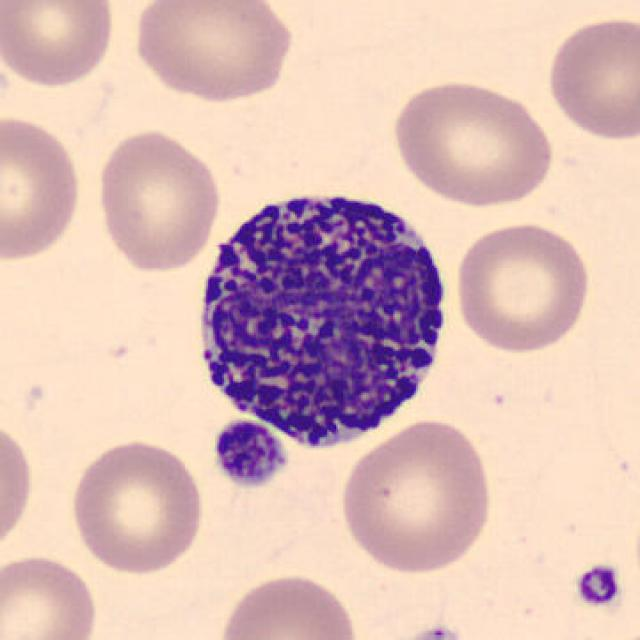Basophil: (182, 168, 460, 466)
Platelets: (208, 416, 292, 492), (570, 560, 626, 612), (389, 622, 475, 640)
RBC: (336, 416, 498, 577), (386, 74, 558, 210), (66, 434, 208, 576), (92, 125, 224, 275), (452, 217, 594, 354), (128, 0, 297, 106), (0, 111, 85, 264), (542, 12, 638, 143), (0, 0, 119, 90), (215, 569, 363, 640), (0, 550, 101, 640), (0, 412, 36, 560)
